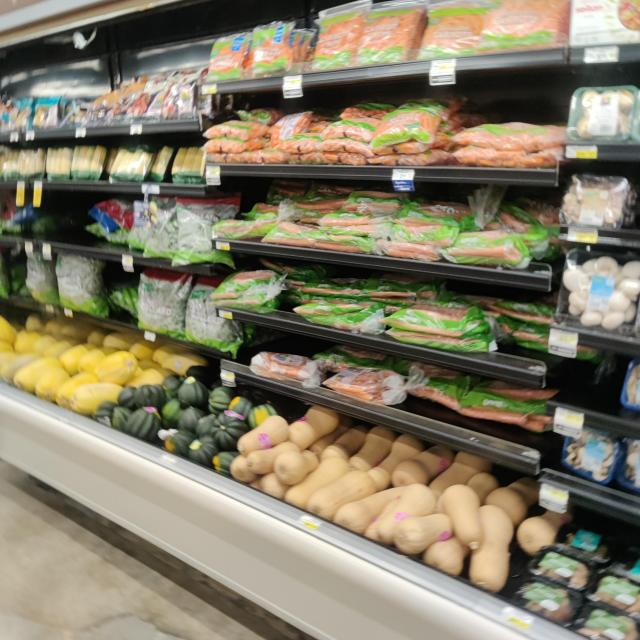Carrots: (463, 377, 560, 431), (473, 0, 572, 52), (419, 0, 489, 57), (384, 298, 488, 336), (359, 4, 422, 64), (394, 359, 468, 410), (315, 8, 371, 72), (448, 230, 535, 270), (295, 298, 384, 334), (328, 365, 406, 403), (375, 101, 443, 143), (215, 269, 282, 309), (251, 350, 322, 387), (248, 22, 292, 72), (316, 209, 397, 235), (207, 33, 245, 79), (397, 217, 457, 243), (208, 118, 270, 141), (268, 112, 312, 143), (263, 222, 318, 246), (321, 118, 384, 137)
Corn: (110, 146, 155, 180), (172, 144, 210, 178), (72, 145, 108, 178), (44, 146, 74, 181), (17, 150, 47, 178)
Mushrooms: (558, 248, 640, 336), (568, 87, 638, 143), (562, 174, 630, 231), (562, 423, 621, 484), (510, 578, 581, 628), (533, 544, 594, 590), (578, 600, 640, 640), (589, 573, 640, 618)
Salad: (174, 198, 237, 269), (184, 279, 243, 353), (55, 253, 111, 320), (138, 270, 186, 339)
